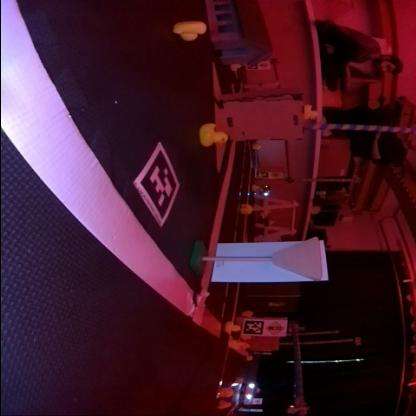Duckie: (199, 122, 227, 146), (178, 20, 208, 40), (305, 104, 319, 118), (226, 322, 238, 334), (220, 387, 234, 396), (218, 401, 232, 408), (240, 204, 252, 212), (231, 63, 241, 70), (236, 376, 244, 382), (246, 310, 253, 316), (254, 144, 262, 148)
QR code: (136, 144, 180, 224)
Signal sign: (265, 320, 286, 335), (260, 61, 270, 68)
